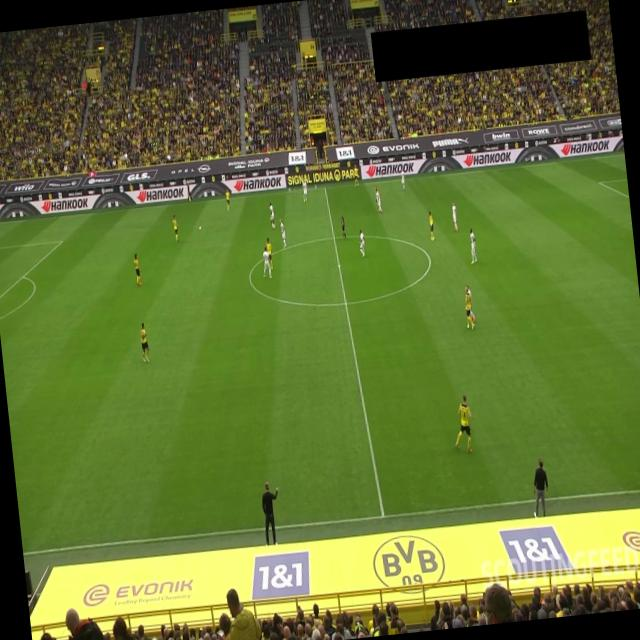ball: (198, 224, 202, 231)
player: (449, 394, 475, 454), (462, 284, 476, 330), (138, 322, 150, 362), (260, 246, 272, 279), (468, 227, 478, 263), (132, 252, 142, 286), (264, 236, 274, 268), (171, 213, 180, 242), (357, 228, 366, 257), (373, 186, 382, 213), (278, 218, 286, 248), (427, 210, 435, 240), (351, 162, 360, 188), (268, 201, 276, 229), (451, 200, 458, 232), (300, 178, 308, 203), (224, 189, 232, 210), (400, 172, 406, 190)
referee: (184, 181, 193, 203), (339, 212, 346, 240)
